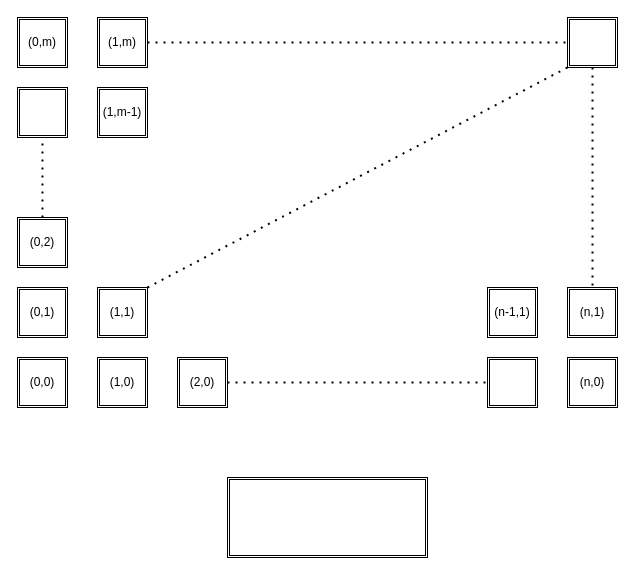
Some shapes in this 635 by 575 pixel diagram are drawn without their labels. Here are the shapes that lost their labels. From the top down, the centre of each, then its label:
At pixel 592 42: "(n,m)".
At pixel 42 112: "(0,m-1)".
At pixel 512 382: "(n-1,0)".
At pixel 327 517: "Controller".
